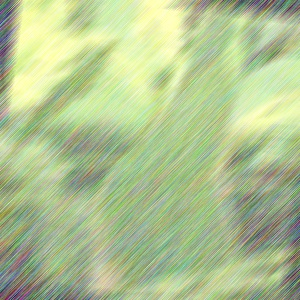Leaf_Blast: (143, 72, 229, 268)
